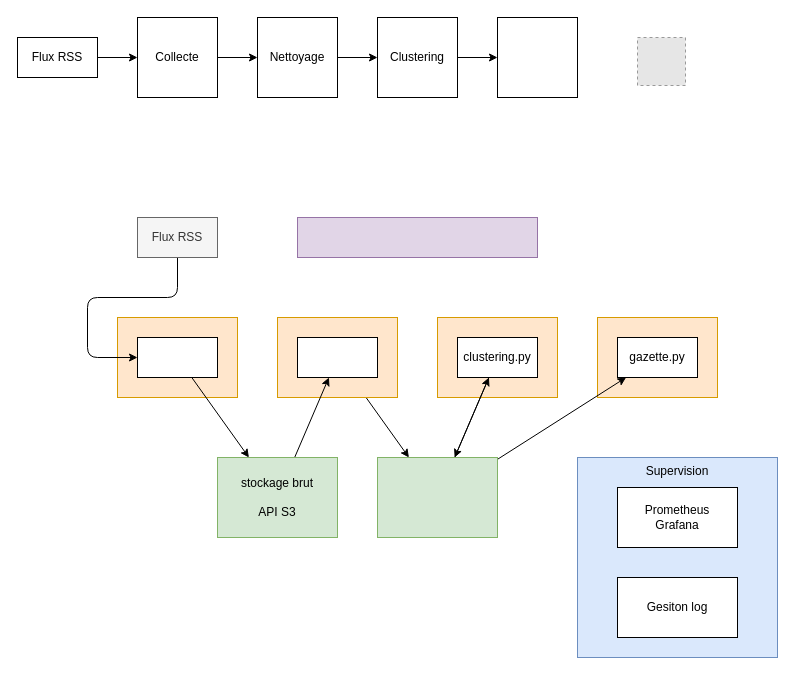
This 795x675 diagram has some shape labels left out. Grey dashed boxes stand in for pictures. Each missing label, with the box of its shape:
clean.py: (296, 336, 378, 378)
collecte.py: (136, 336, 218, 378)
Livraison: (496, 16, 578, 98)
Orchestration : Kaestra: (296, 216, 538, 258)
stockage clean PostgreSQL: (376, 456, 498, 538)
